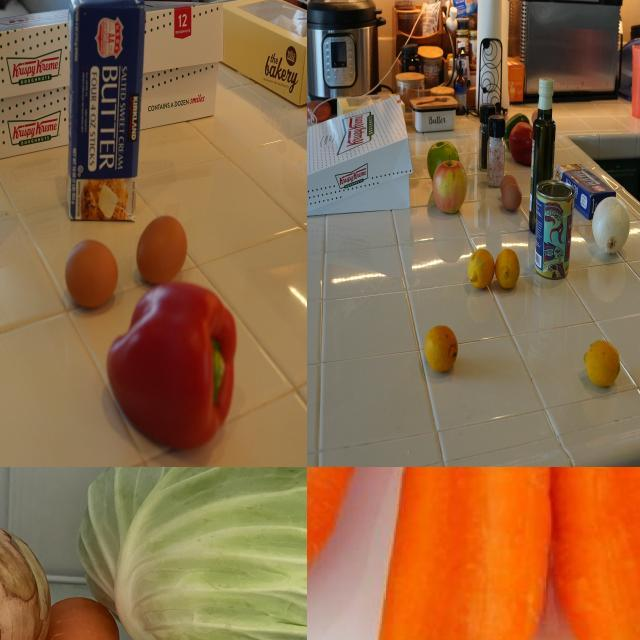bell_pepper: (95, 292, 237, 461), (480, 104, 496, 173), (511, 122, 537, 164), (508, 115, 530, 145)
cabbage: (79, 468, 308, 640)
carrot: (378, 468, 550, 640), (308, 468, 470, 625), (543, 468, 640, 640)
egg: (64, 237, 122, 311), (137, 214, 191, 286), (502, 186, 524, 214), (499, 177, 519, 202)
onion: (594, 197, 632, 257)
